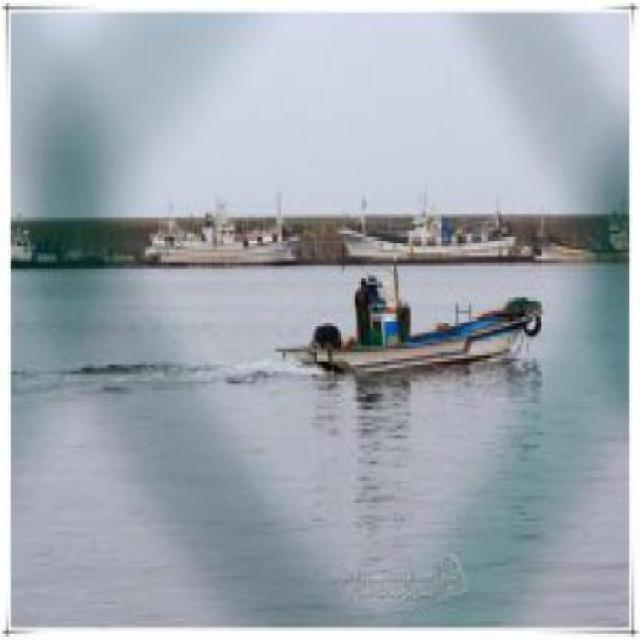fish-b: (269, 269, 569, 391), (335, 177, 527, 273), (119, 184, 310, 273)
